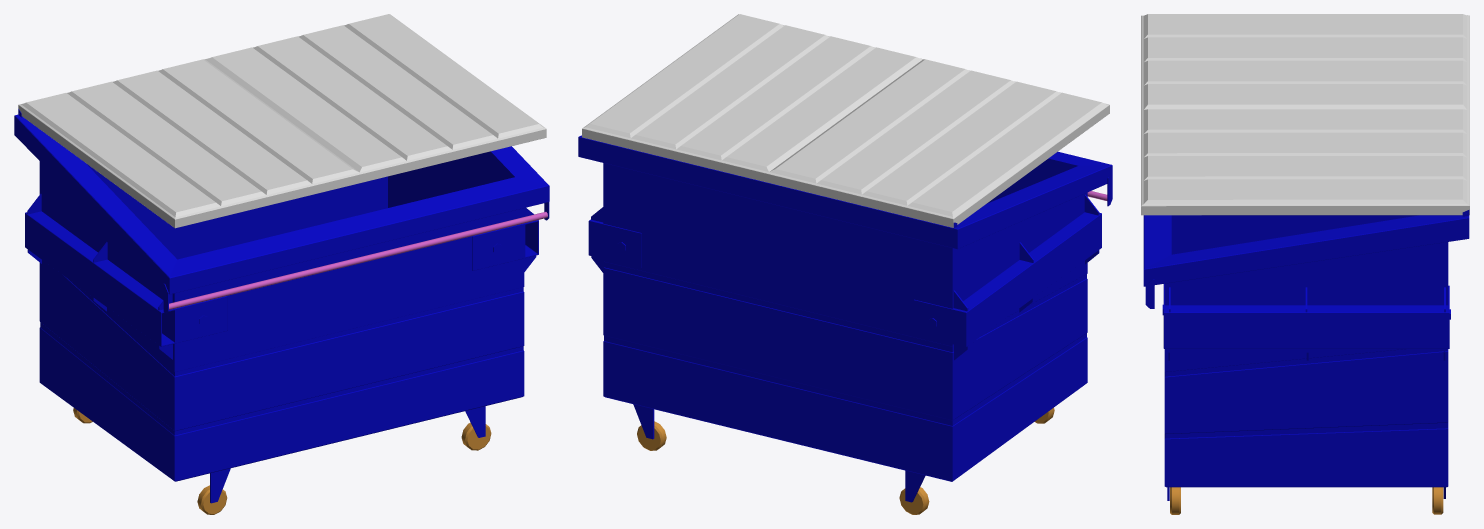
The model's file is Dumpster_Wheeled.fbx.
3 views of the same model, side by side, from view 1: azimuth 30°, elevation 25°; view 2: azimuth 150°, elevation 25°; view 3: azimuth 270°, elevation 25° (orthographic). The views are drawn at different scales.
Visible parts, largest first — view 1: Body, Lid; view 2: Body, Lid; view 3: Body, Lid.
Part boxes in pixels (bbox=[...]): Body: bbox=[14, 109, 549, 514]; Lid: bbox=[18, 14, 546, 228]; Body: bbox=[578, 135, 1112, 514]; Lid: bbox=[582, 14, 1109, 227]; Body: bbox=[1143, 210, 1469, 514]; Lid: bbox=[1141, 14, 1469, 215].
Size of the model in its own units: 229 by 185 by 163.
